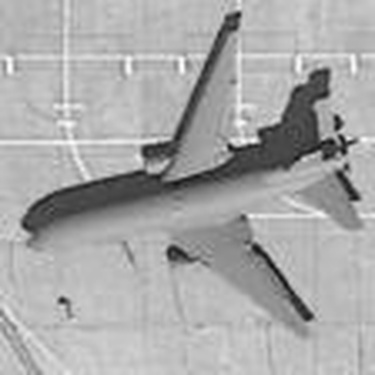airplane: (2, 8, 366, 348)
